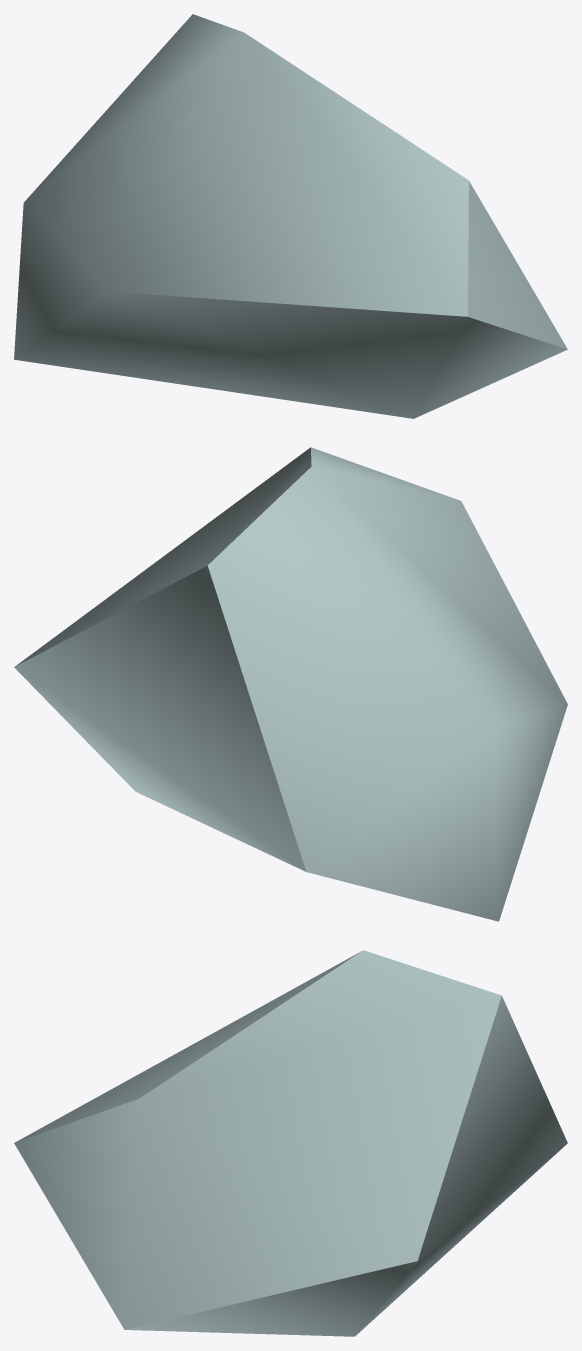
The model's file is Stone.fbx.
3 views of the same model, one above another, from view 1: azimuth 30°, elevation 25°; view 2: azimuth 150°, elevation 25°; view 3: azimuth 270°, elevation 25° (orthographic). The views are drawn at different scales.
Visible parts, largest first — view 1: Zemlica.002; view 2: Zemlica.002; view 3: Zemlica.002.
Boxes of the visible parts, left/top/right/bottom form: Zemlica.002: left=14, top=14, right=567, bottom=418; Zemlica.002: left=14, top=447, right=567, bottom=921; Zemlica.002: left=14, top=950, right=567, bottom=1336.
Bounding box in the file's own units: 0.146 × 0.1049 × 0.1685.
